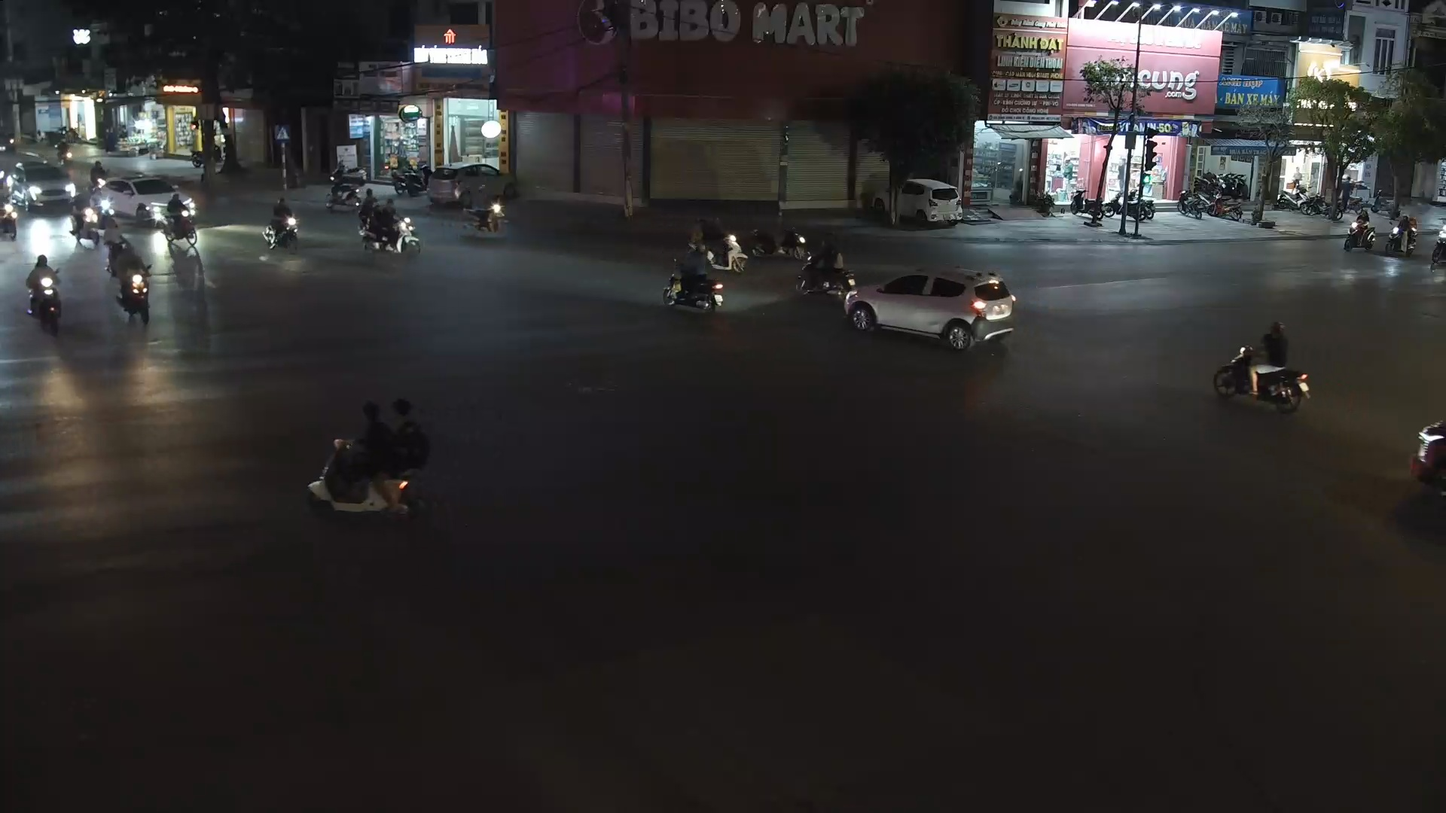car: (843, 268, 1017, 352), (99, 172, 192, 229), (11, 155, 76, 216)
motorbike: (305, 395, 432, 525), (1210, 319, 1313, 414), (660, 245, 726, 317), (111, 237, 154, 328), (794, 237, 858, 298), (24, 250, 65, 335), (261, 196, 301, 252)
